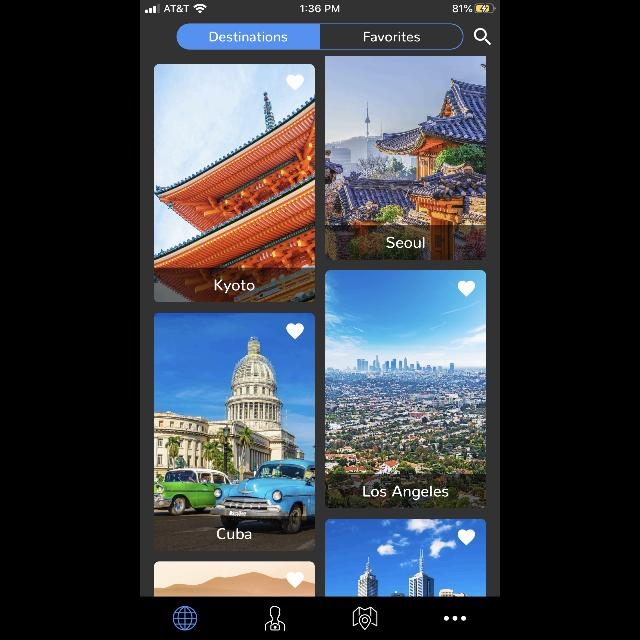icon: (352, 606, 378, 630), (173, 606, 197, 630), (265, 606, 285, 630), (474, 28, 491, 46), (286, 572, 304, 588), (286, 323, 304, 339), (286, 75, 304, 91), (458, 529, 474, 545), (458, 281, 474, 297), (444, 616, 466, 620)
image: (326, 270, 486, 508), (155, 313, 315, 551), (155, 64, 315, 302), (326, 56, 486, 260), (326, 520, 486, 596), (154, 562, 314, 596)
text: (364, 486, 448, 500), (216, 280, 254, 294), (216, 528, 252, 540), (388, 238, 424, 248)
textbutton: (176, 24, 320, 50), (321, 24, 464, 50)
uppertaskbar: (140, 0, 500, 14)
